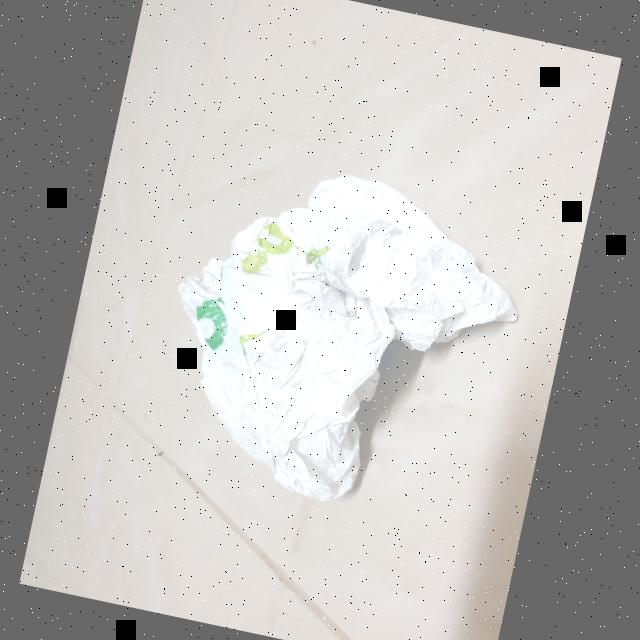plastic_bag: (130, 137, 548, 546)
